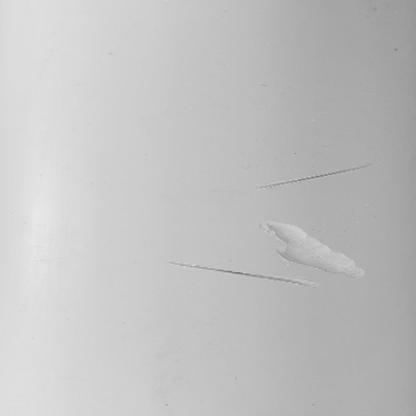sunshang: (262, 220, 369, 279), (170, 261, 313, 291), (252, 163, 373, 194)
